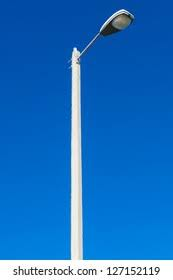light_pole: (56, 31, 104, 266)
